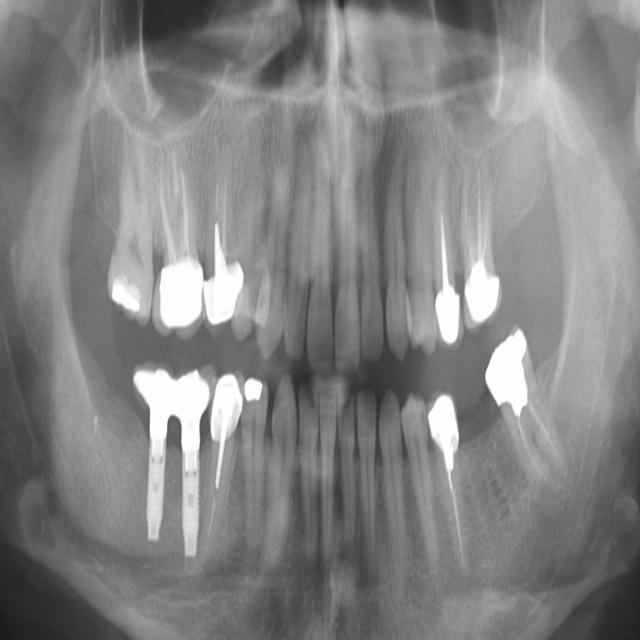infected-teeth: (481, 326, 568, 488), (148, 136, 204, 341), (196, 379, 240, 580), (431, 397, 477, 583), (424, 173, 467, 359), (457, 155, 502, 322), (203, 171, 245, 336)
